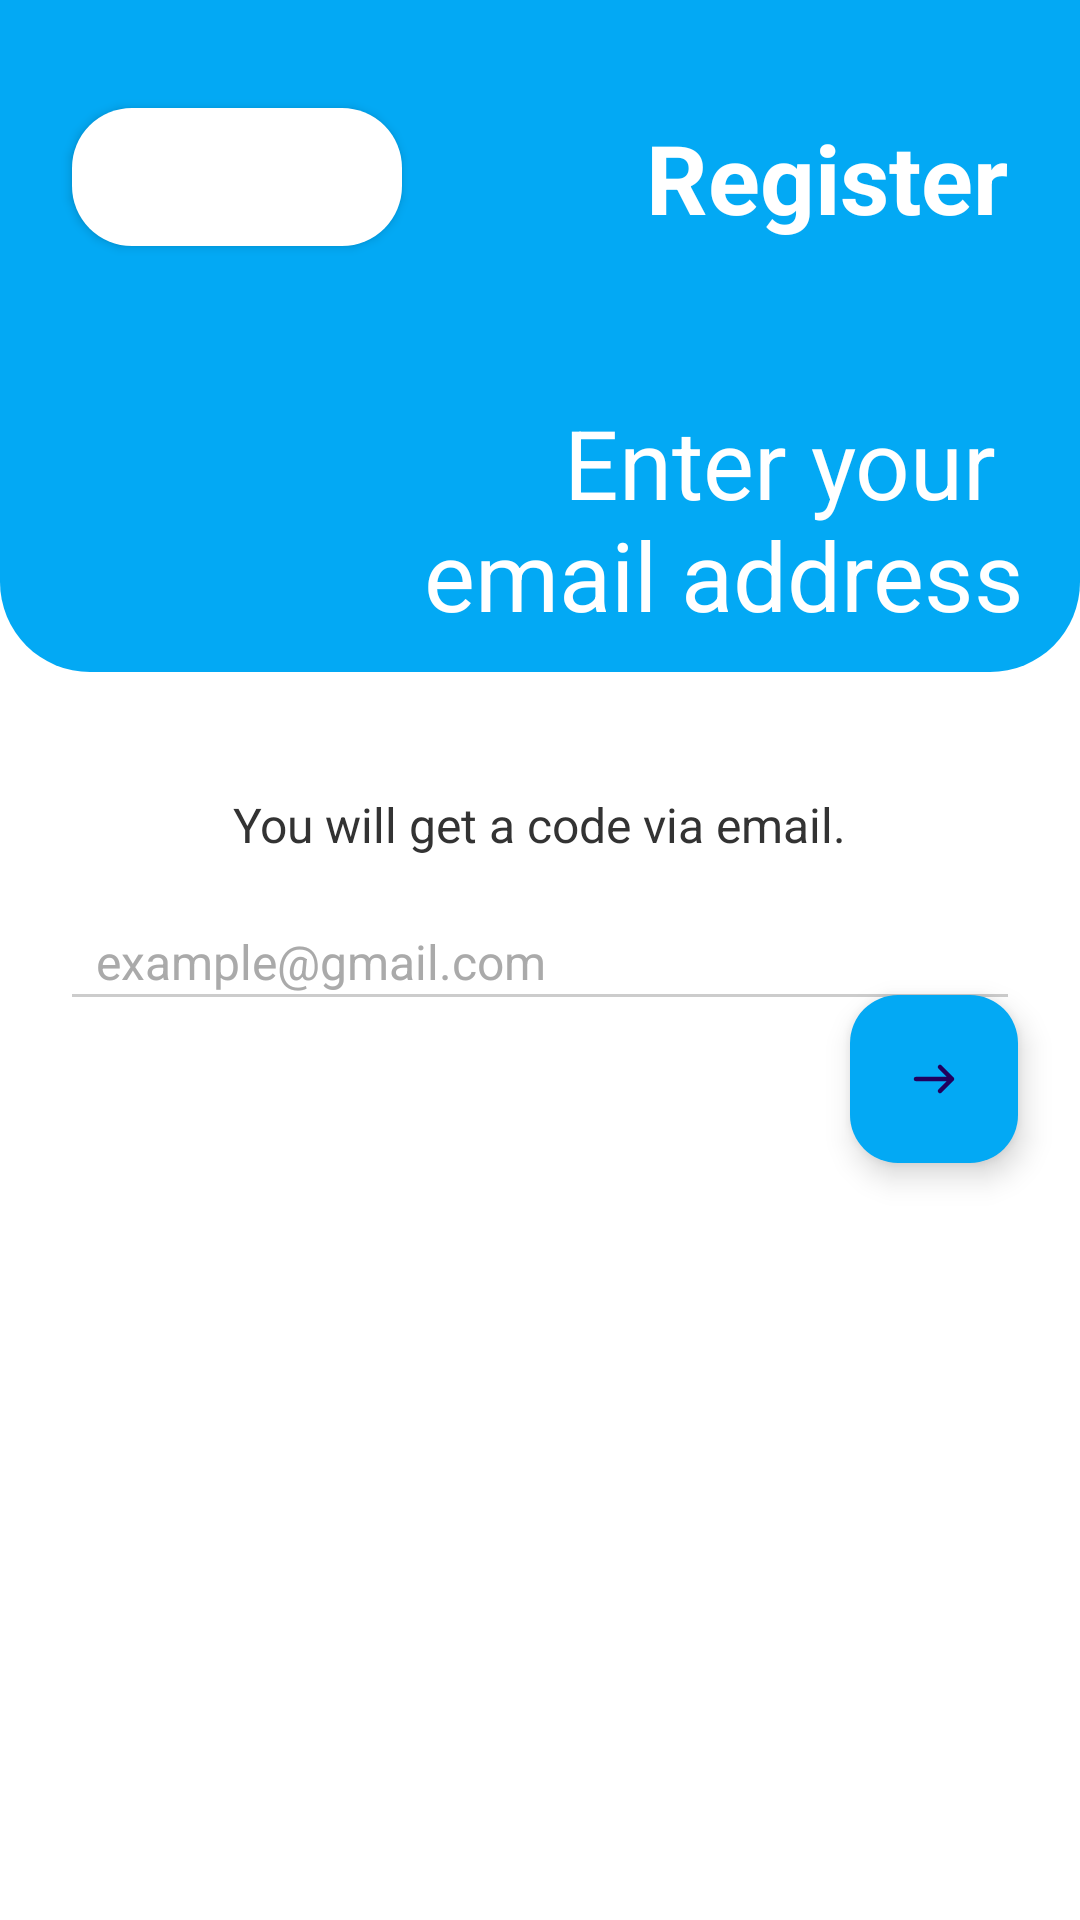

Icons on this 1080*1920 Android screen, each with its box as {"left": x1, "top": y1, "right": x2, "bottom": y2}:
continue: {"left": 850, "top": 995, "right": 1018, "bottom": 1163}
